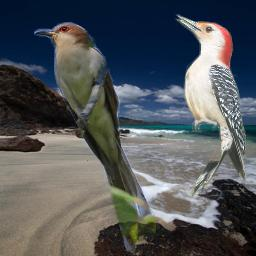Cuckoo: (34, 22, 156, 253)
Woodpecker: (172, 14, 246, 198)
